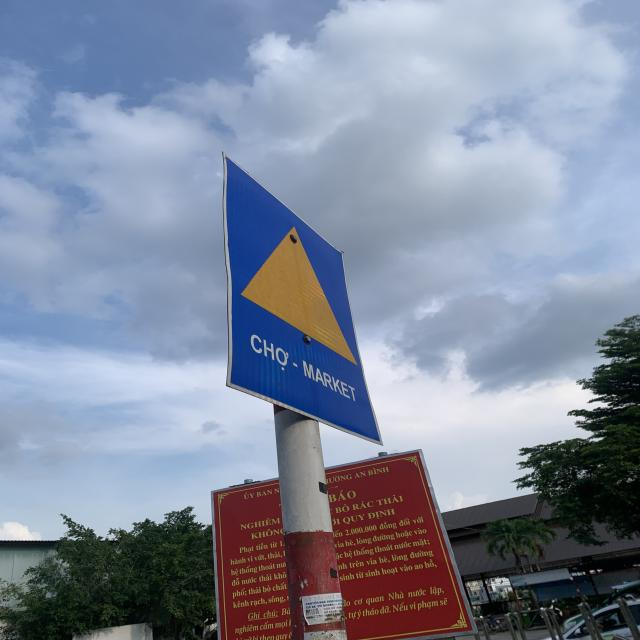Cho_Quay_Xe: (224, 156, 384, 446)
